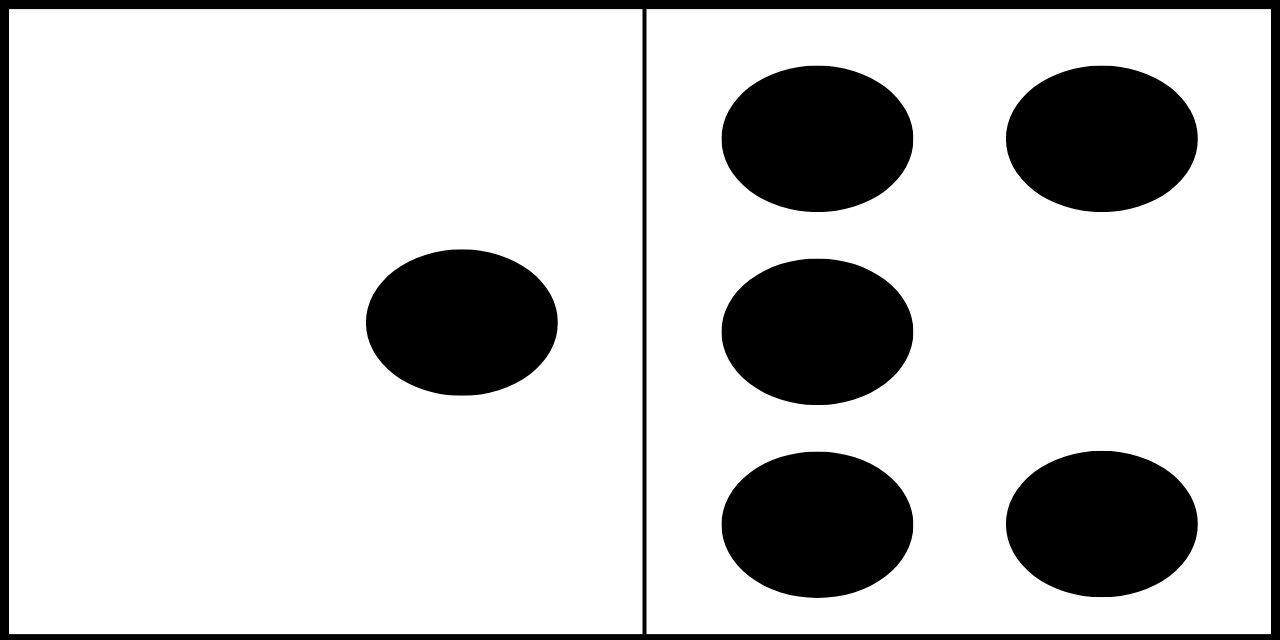dot_5: (93, 63, 560, 598)
two_cell_non_alphabet_alam: (720, 65, 1199, 600)
